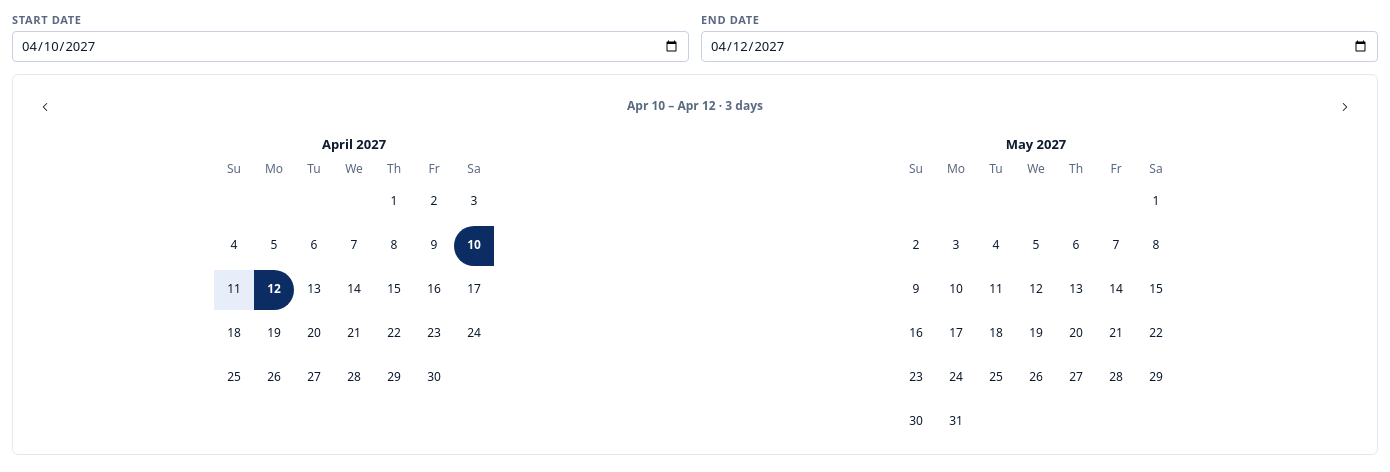
Scenario: DateRangePicker › picks a start then an end day from the calendar
Step 1. Click the button named "April 3, 2027" → (474, 202), box [454,182,494,222]
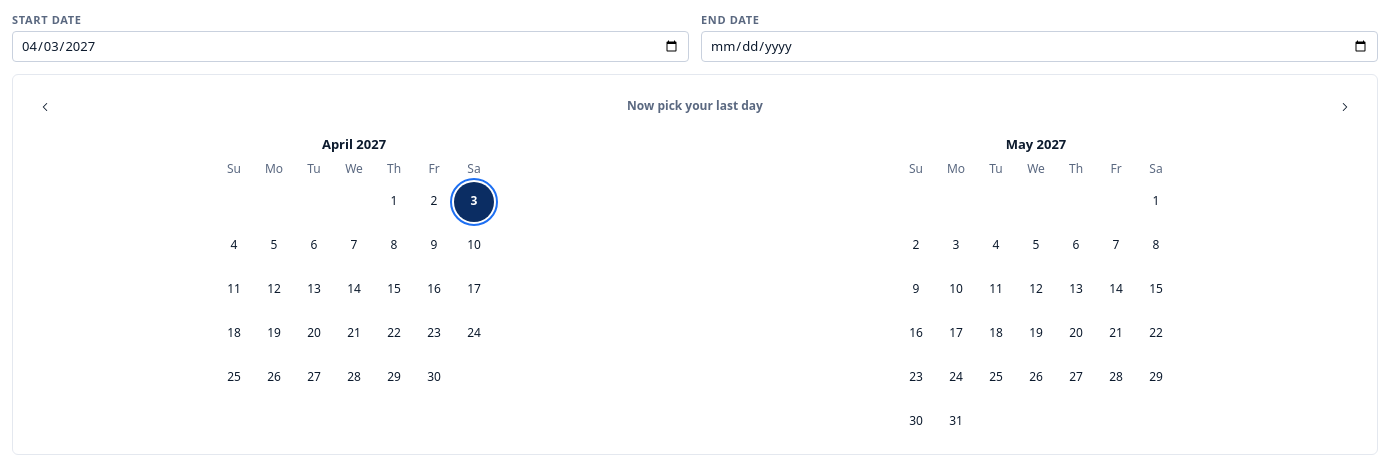
expect the date field labelled "Start date" holds "2027-04-03": met, box [12,31,689,62]
expect the date field labelled "End date" is empty: met, box [701,31,1378,62]
expect the text "Now pick your last day" is shown: met, box [627,98,763,115]
Step 2. Click the button named "May 2, 2027" → (916, 246), box [896,226,936,266]
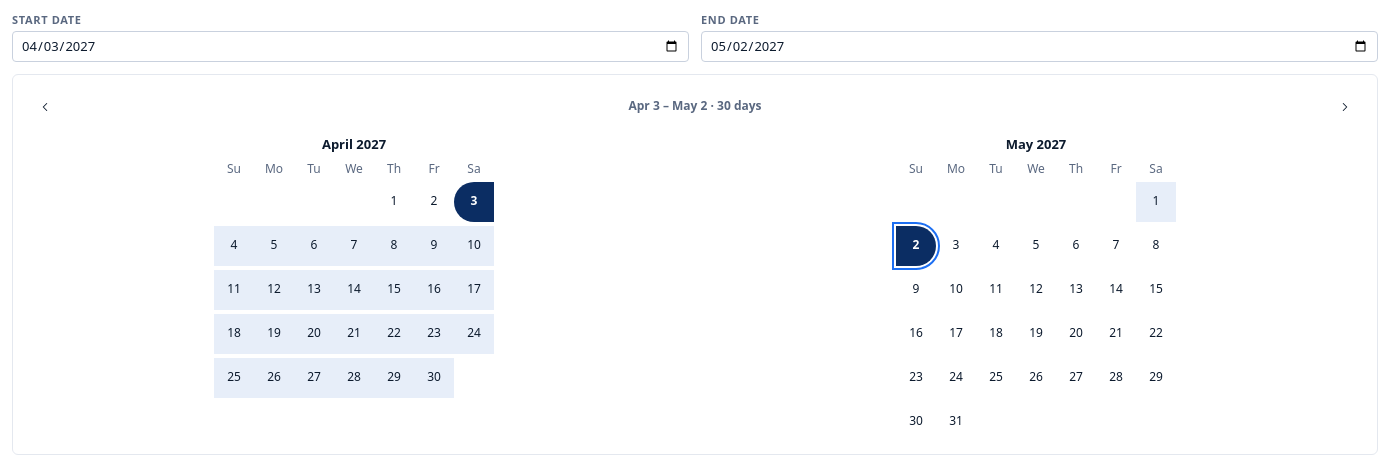
expect the date field labelled "End date" holds "2027-05-02": met, box [701,31,1378,62]
expect the text "Apr 3 – May 2 · 30 days" is shown: met, box [628,98,762,115]
